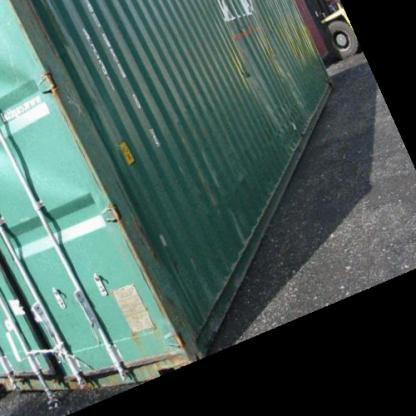Damage: (107, 198, 197, 362), (219, 2, 321, 134), (17, 12, 112, 150)
